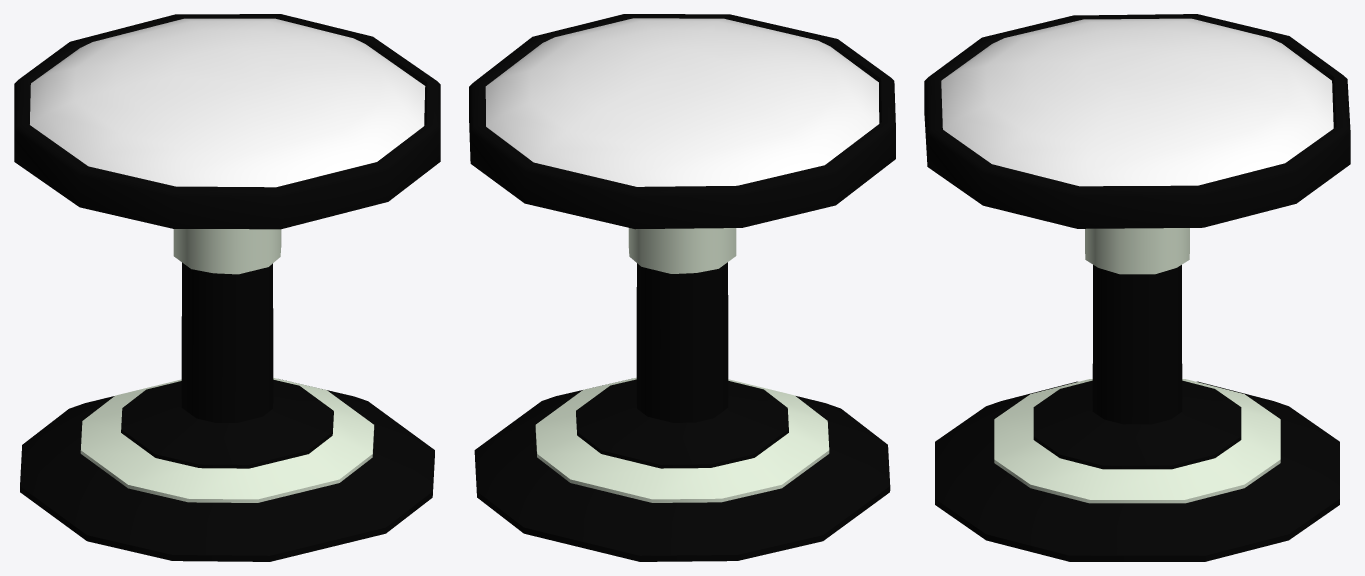
File: stool.fbx
The picture shows the model from 3 angles, left to right: view 1: azimuth 30°, elevation 25°; view 2: azimuth 150°, elevation 25°; view 3: azimuth 270°, elevation 25°; orthographic projection.
Parts seen in each view (by area): view 1: stool; view 2: stool; view 3: stool.
Part boxes in pixels (box(x1,y1,x2,y2)): stool: box(14, 14, 440, 561); stool: box(469, 14, 895, 561); stool: box(924, 14, 1350, 561).
Size of the model in its own units: 63.02 by 66.15 by 63.02.
